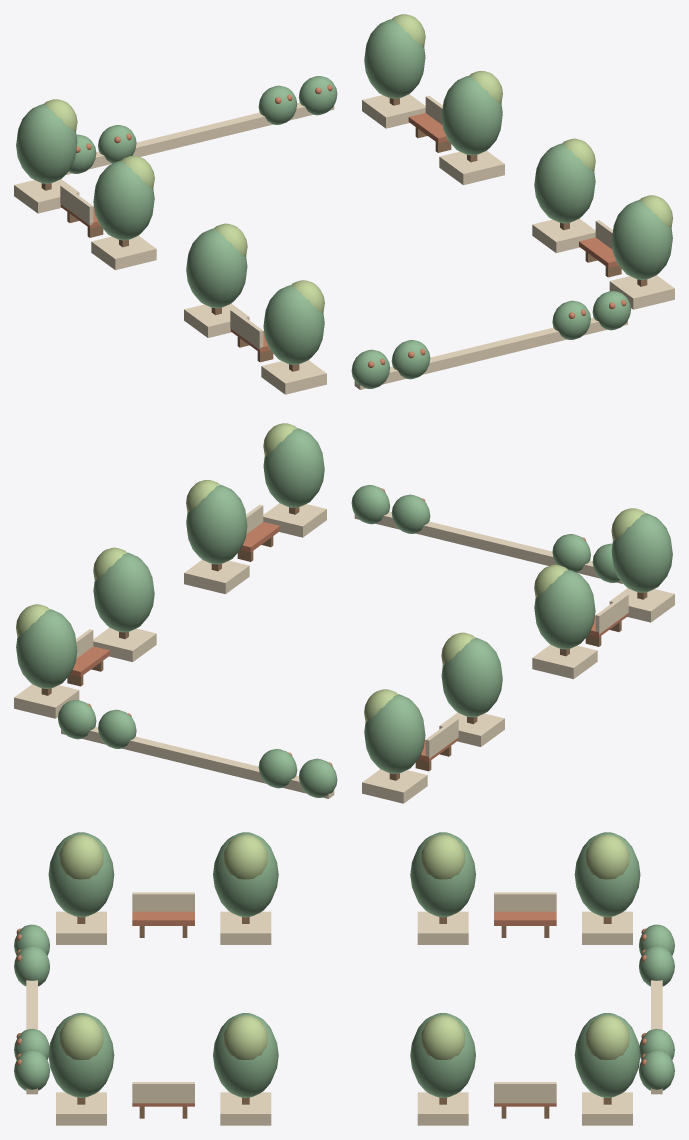
The model's file is pickle-garden.glb.
The picture shows the model from 3 angles, top to bottom: view 1: azimuth 30°, elevation 25°; view 2: azimuth 150°, elevation 25°; view 3: azimuth 270°, elevation 25°; orthographic projection. The views are drawn at different scales.
Visible parts, largest first — view 1: Pear canopy.001, Pear canopy.005, Pear canopy.006, Pear canopy, Pear canopy.007, Pear canopy.002, Pear canopy.003, Pear canopy.004, Garden border, Garden border.001, Tree planter, Tree planter.002 (+19 smaller); view 2: Pear canopy.002, Pear canopy.005, Pear canopy.006, Pear canopy.003, Pear canopy.004, Pear canopy, Pear canopy.001, Pear canopy.007, Garden border.001, Garden border, Tree planter.003, Tree planter.001 (+19 smaller); view 3: Pear canopy.005, Pear canopy.006, Pear canopy, Pear canopy.003, Pear canopy.001, Pear canopy.002, Pear canopy.004, Pear canopy.007, Tree planter.005, Tree planter.006, Soft canopy, Soft canopy.003 (+28 smaller).
Boxes of the visible parts, <box> form: Pear canopy.001: <box>186,228,247,308</box>; Pear canopy.005: <box>534,143,595,223</box>; Pear canopy.006: <box>441,75,502,155</box>; Pear canopy: <box>263,285,324,364</box>; Pear canopy.007: <box>364,19,425,98</box>; Pear canopy.002: <box>93,160,154,240</box>; Pear canopy.003: <box>16,104,77,183</box>; Pear canopy.004: <box>611,200,672,279</box>; Garden border: <box>354,318,627,389</box>; Garden border.001: <box>66,102,334,174</box>; Tree planter: <box>261,360,326,394</box>; Tree planter.002: <box>91,235,156,270</box>; Pear canopy.002: <box>441,637,502,717</box>; Pear canopy.005: <box>186,484,247,564</box>; Pear canopy.006: <box>93,552,154,632</box>; Pear canopy.003: <box>364,694,425,773</box>; Pear canopy.004: <box>263,428,324,507</box>; Pear canopy: <box>611,513,672,592</box>; Pear canopy.001: <box>534,569,595,649</box>; Pear canopy.007: <box>16,609,77,688</box>; Garden border.001: <box>61,727,334,798</box>; Garden border: <box>354,511,622,583</box>; Tree planter.003: <box>362,769,427,803</box>; Tree planter.001: <box>532,644,597,679</box>; Pear canopy.005: <box>213,1013,278,1097</box>; Pear canopy.006: <box>410,1013,475,1097</box>; Pear canopy: <box>48,832,114,917</box>; Pear canopy.003: <box>574,832,640,917</box>; Pear canopy.001: <box>213,832,278,917</box>; Pear canopy.002: <box>410,832,475,917</box>; Pear canopy.004: <box>48,1013,114,1097</box>; Pear canopy.007: <box>574,1013,640,1097</box>; Tree planter.005: <box>220,1092,271,1125</box>; Tree planter.006: <box>417,1092,468,1125</box>; Soft canopy: <box>59,834,103,879</box>; Soft canopy.003: <box>585,834,629,879</box>.
Bounding box in the file's own units: 15.05 × 3.55 × 20.1.
